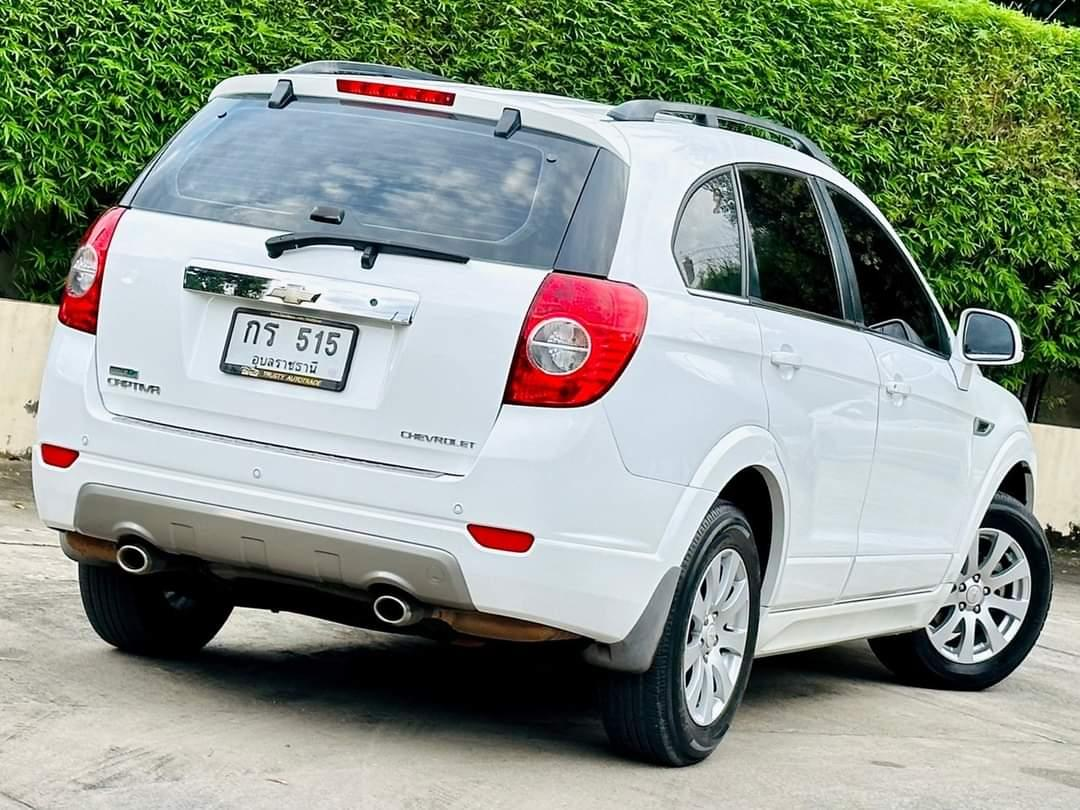license-plate: (218, 303, 362, 394)
